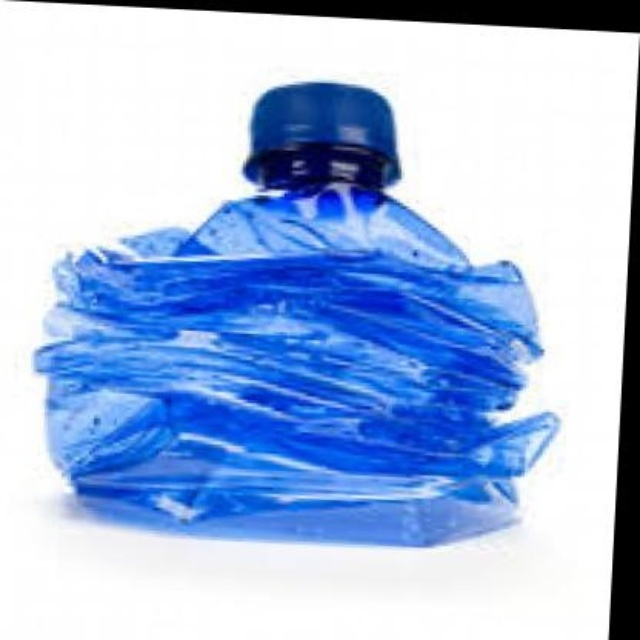trash: (35, 82, 557, 545)
